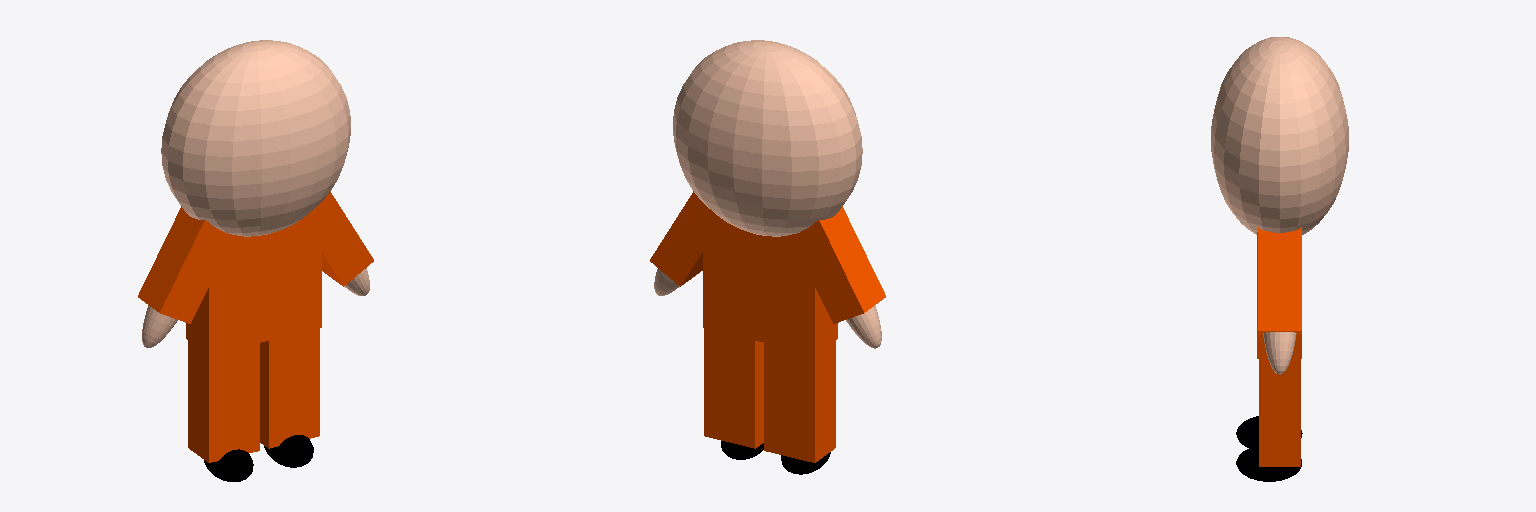
3 renders of one model, left to right at view 1: azimuth 30°, elevation 25°; view 2: azimuth 150°, elevation 25°; view 3: azimuth 270°, elevation 25°, orthographic.
Parts seen in each view (by area): view 1: pasted__polySurface9 group polySurface2, pasted__polySurface9 group polySurface8, pCube1, pCube2, polySurface1 pasted__polySurface9 group, pasted__polySurface9 group polySurface10, pasted__polySurface9 group polySurface7, pasted__polySurface9 group polySurface6, pasted__polySurface9 group polySurface3; view 2: pasted__polySurface9 group polySurface2, pasted__polySurface9 group polySurface8, pCube1, pCube2, polySurface1 pasted__polySurface9 group, pasted__polySurface9 group polySurface10, pasted__polySurface9 group polySurface3, pasted__polySurface9 group polySurface6; view 3: pasted__polySurface9 group polySurface2, pasted__polySurface9 group polySurface10, pCube2, pasted__polySurface9 group polySurface7, pasted__polySurface9 group polySurface9, pasted__polySurface9 group polySurface6.
Part boxes in pixels (x1,y1,x2,y2): pasted__polySurface9 group polySurface2: (161,40,350,236); pasted__polySurface9 group polySurface8: (186,202,321,354); pCube1: (188,340,259,462); pCube2: (260,328,319,448); polySurface1 pasted__polySurface9 group: (138,206,208,323); pasted__polySurface9 group polySurface10: (322,191,373,286); pasted__polySurface9 group polySurface7: (264,435,313,467); pasted__polySurface9 group polySurface6: (204,449,253,481); pasted__polySurface9 group polySurface3: (142,305,177,347); pasted__polySurface9 group polySurface2: (673,40,862,236); pasted__polySurface9 group polySurface8: (703,220,837,354); pCube1: (764,340,835,462); pCube2: (704,328,763,448); polySurface1 pasted__polySurface9 group: (790,206,885,323); pasted__polySurface9 group polySurface10: (650,191,722,286); pasted__polySurface9 group polySurface3: (846,306,881,348); pasted__polySurface9 group polySurface6: (781,452,830,474); pasted__polySurface9 group polySurface2: (1211,37,1348,234); pasted__polySurface9 group polySurface10: (1258,227,1301,334); pCube2: (1259,359,1300,466); pasted__polySurface9 group polySurface7: (1236,445,1301,481); pasted__polySurface9 group polySurface9: (1263,332,1296,374); pasted__polySurface9 group polySurface6: (1236,416,1302,447).
Size of the model in its own units: 2.56 by 4.56 by 1.36.
Materials: 1 (1 with a texture image).